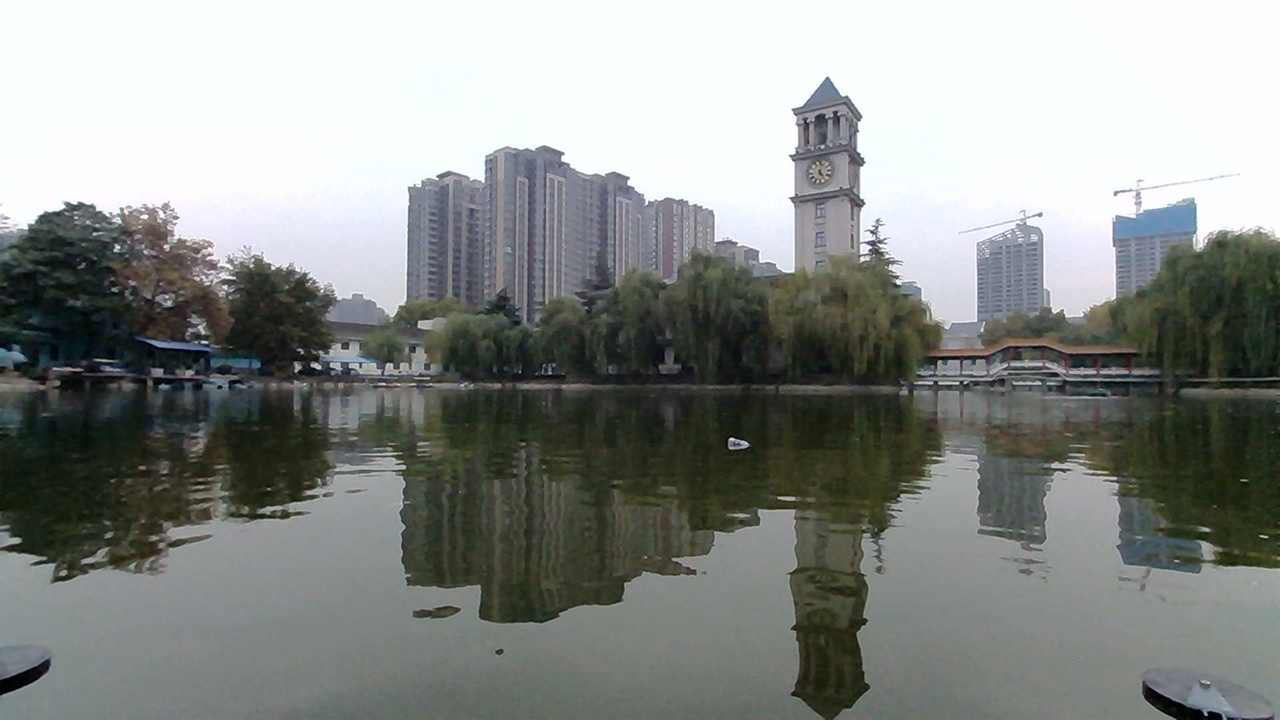bottle: (718, 425, 757, 455)
